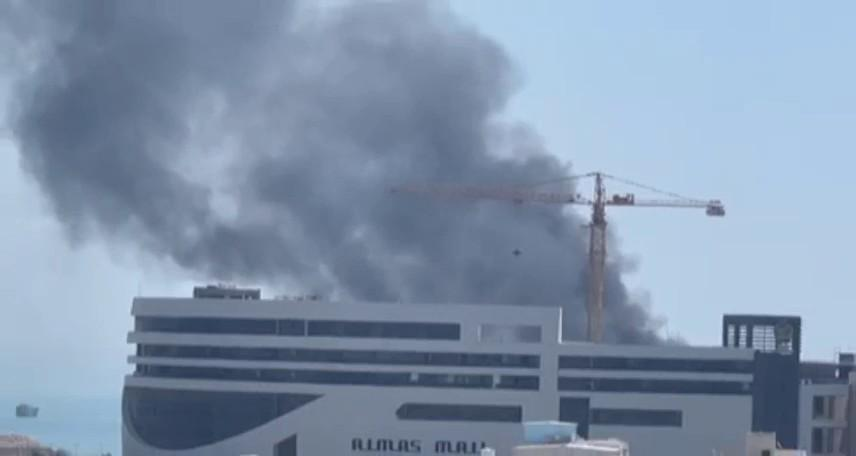smoke: (24, 4, 581, 300), (600, 251, 681, 346)
